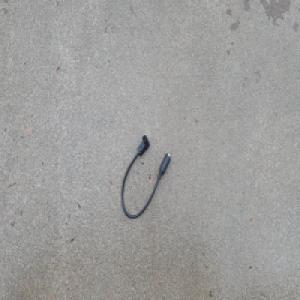Wire: (120, 133, 171, 221)
